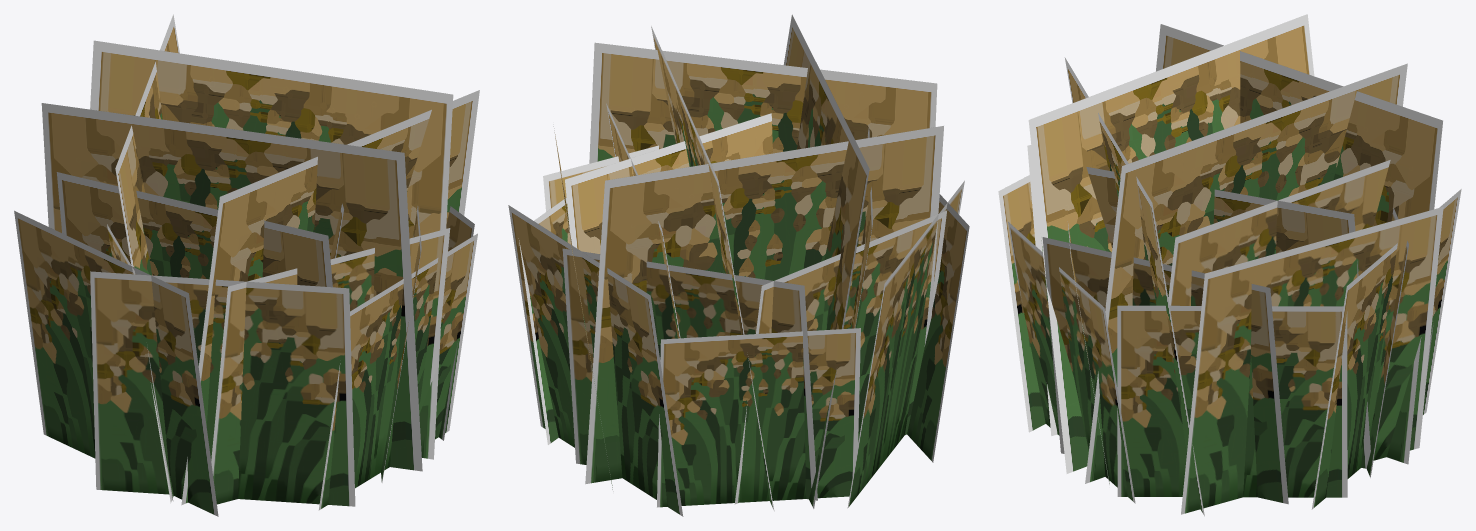
Rendered from SM_Lake_Reeds_004.fbx.
The picture shows the model from 3 angles, left to right: view 1: azimuth 30°, elevation 25°; view 2: azimuth 150°, elevation 25°; view 3: azimuth 270°, elevation 25°; orthographic projection.
Parts seen in each view (by area): view 1: SM_Lake_Reeds_004; view 2: SM_Lake_Reeds_004; view 3: SM_Lake_Reeds_004.
Boxes of the visible parts, <box> form: SM_Lake_Reeds_004: <box>14,14,479,516</box>; SM_Lake_Reeds_004: <box>508,14,969,516</box>; SM_Lake_Reeds_004: <box>998,14,1461,516</box>.
Bounding box in the file's own units: 76.84 × 62.53 × 78.07.
